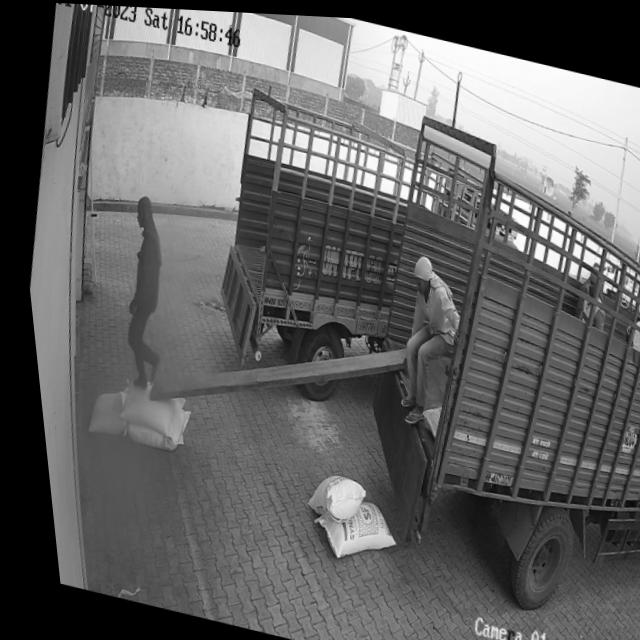sack: (294, 485, 394, 569), (105, 377, 181, 440), (110, 395, 186, 455), (292, 465, 360, 526), (74, 383, 126, 440)
